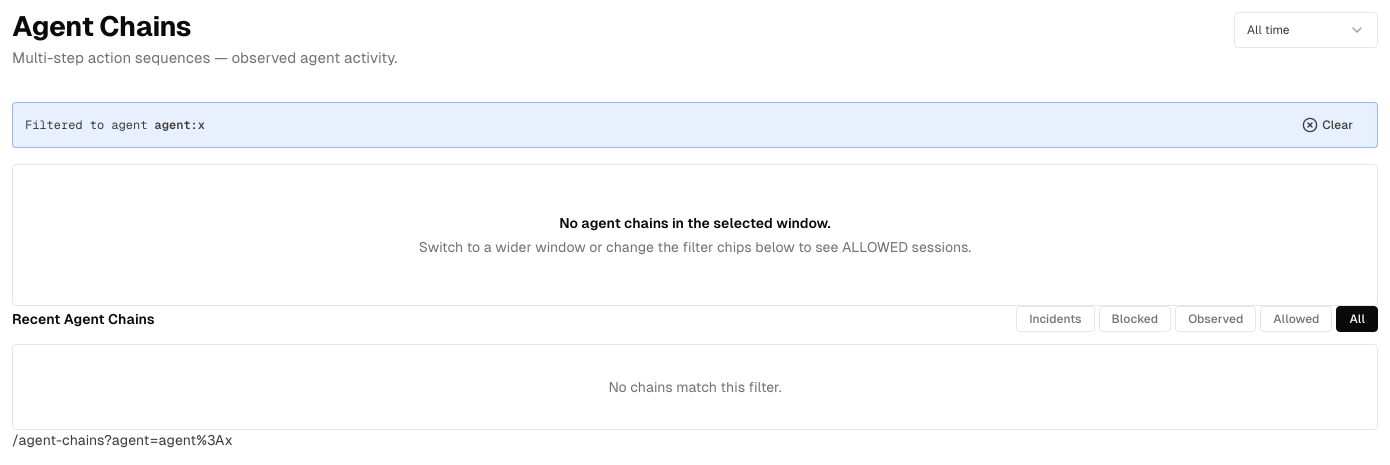
Test: AgentChainsPage — list & filters › pre-filters by ?agent= with an all-time window and a clearable banner
Check: the text "Filtered to agent agent:x" is shown, box [25,117,205,133]
Click the button "Clear". click: point(1328, 125)
box: [1290,111,1365,139]
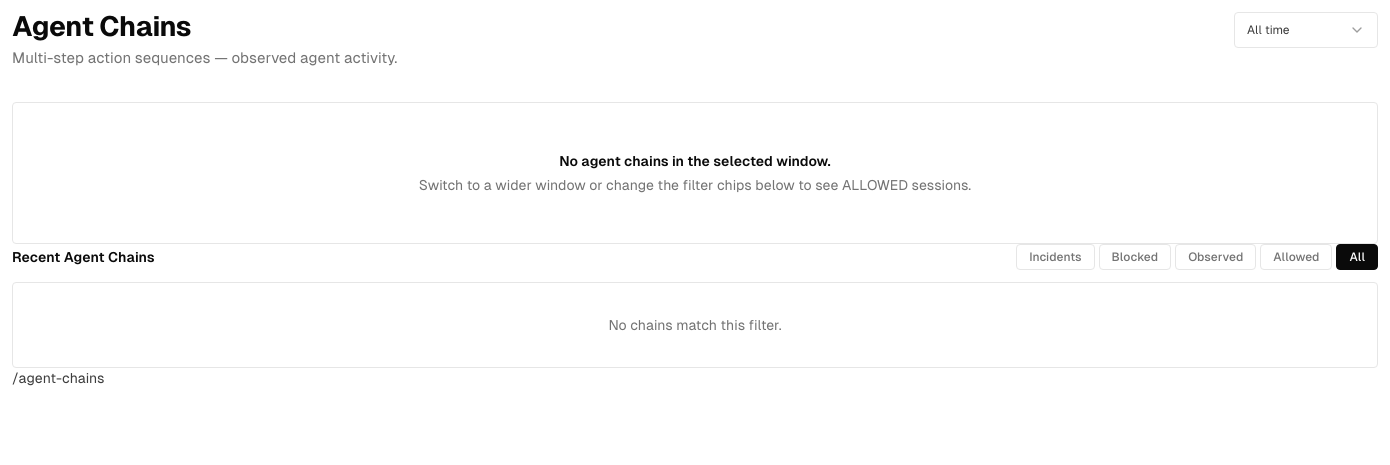
Check: the text "Filtered to agent" is gone
